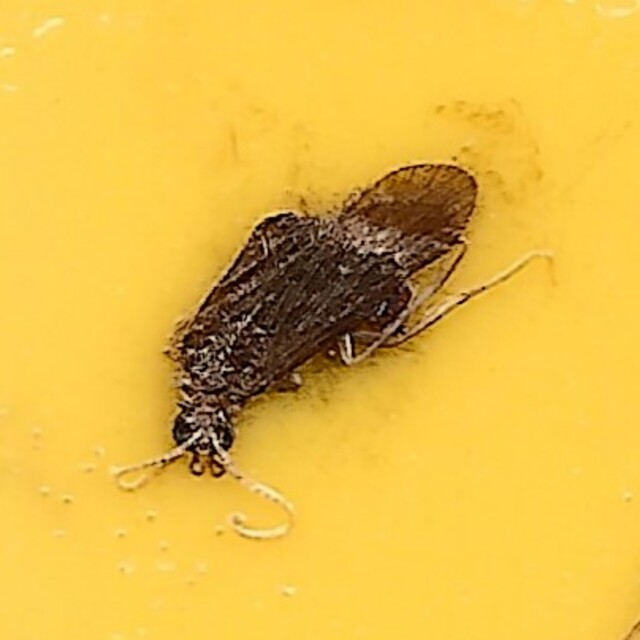Trichoptera: (158, 158, 482, 482)
